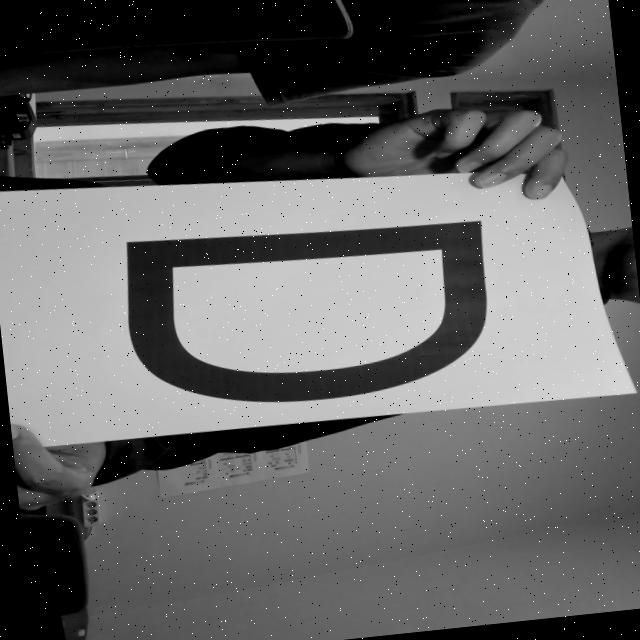d: (105, 186, 518, 426)
